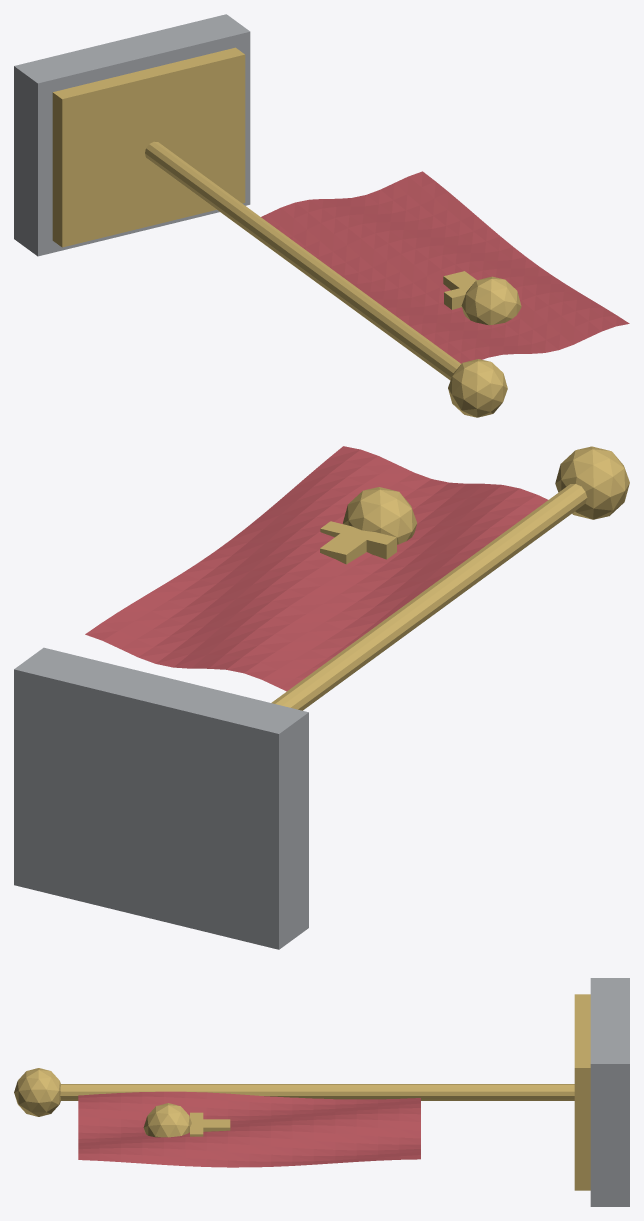
Rendered from 02_Arena_Banner.glb.
The picture shows the model from 3 angles, top to bottom: view 1: azimuth 30°, elevation 25°; view 2: azimuth 150°, elevation 25°; view 3: azimuth 270°, elevation 25°; orthographic projection. The views are drawn at different scales.
Parts seen in each view (by area): view 1: 02_Arena_Banner_004, 02_Arena_Banner_001, 02_Arena_Banner_000, 02_Arena_Banner_002, 02_Arena_Banner_003, 02_Arena_Banner_005; view 2: 02_Arena_Banner_000, 02_Arena_Banner_004, 02_Arena_Banner_002, 02_Arena_Banner_003, 02_Arena_Banner_005, 02_Arena_Banner_006, 02_Arena_Banner_007; view 3: 02_Arena_Banner_004, 02_Arena_Banner_000, 02_Arena_Banner_002, 02_Arena_Banner_001, 02_Arena_Banner_003, 02_Arena_Banner_005, 02_Arena_Banner_007, 02_Arena_Banner_006.
Part boxes in pixels (x1,y1,x2,y2): 02_Arena_Banner_004: (261, 171, 629, 363); 02_Arena_Banner_001: (52, 47, 245, 247); 02_Arena_Banner_000: (14, 14, 250, 256); 02_Arena_Banner_002: (145, 141, 460, 380); 02_Arena_Banner_003: (448, 359, 507, 417); 02_Arena_Banner_005: (461, 276, 521, 325); 02_Arena_Banner_000: (14, 647, 308, 949); 02_Arena_Banner_004: (85, 446, 547, 691); 02_Arena_Banner_002: (271, 484, 587, 710); 02_Arena_Banner_003: (555, 446, 629, 519); 02_Arena_Banner_005: (343, 487, 417, 544); 02_Arena_Banner_006: (320, 521, 396, 559); 02_Arena_Banner_007: (320, 530, 370, 564); 02_Arena_Banner_004: (78, 1091, 420, 1167); 02_Arena_Banner_000: (590, 978, 629, 1206); 02_Arena_Banner_002: (60, 1084, 574, 1100); 02_Arena_Banner_001: (574, 994, 590, 1190); 02_Arena_Banner_003: (14, 1068, 60, 1116); 02_Arena_Banner_005: (143, 1103, 191, 1137); 02_Arena_Banner_007: (196, 1119, 230, 1131); 02_Arena_Banner_006: (190, 1112, 203, 1136).
Bounding box in the file's own units: 2.39 × 1.4 × 5.46.
